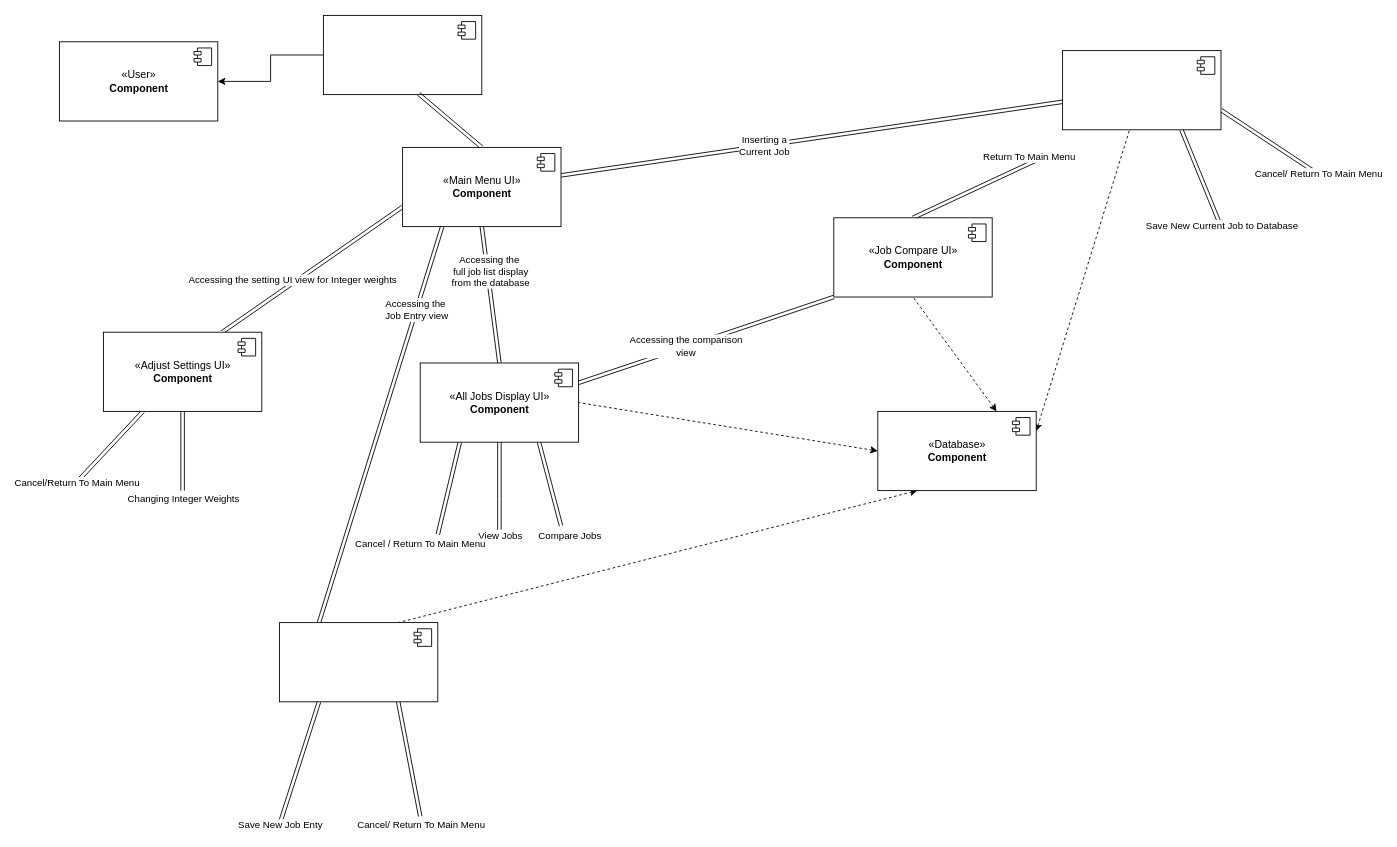
Some shapes in this 1397 by 847 pixel diagram are drawn without their labels. The centre of each missing label's shape, as x and y in pixels:
«Application» Component: the point at 402,55
«Job Entry UI» Component: the point at 358,662
«Update Current Job UI» Component: the point at 1141,90
